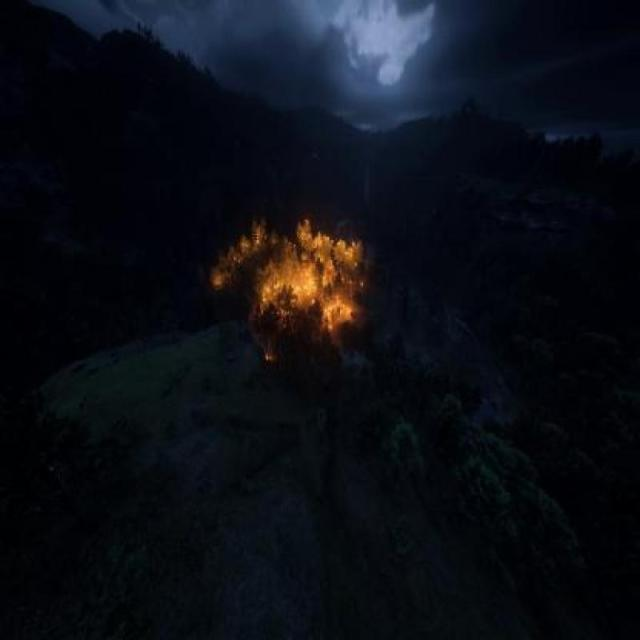Fire: (214, 198, 376, 372)
